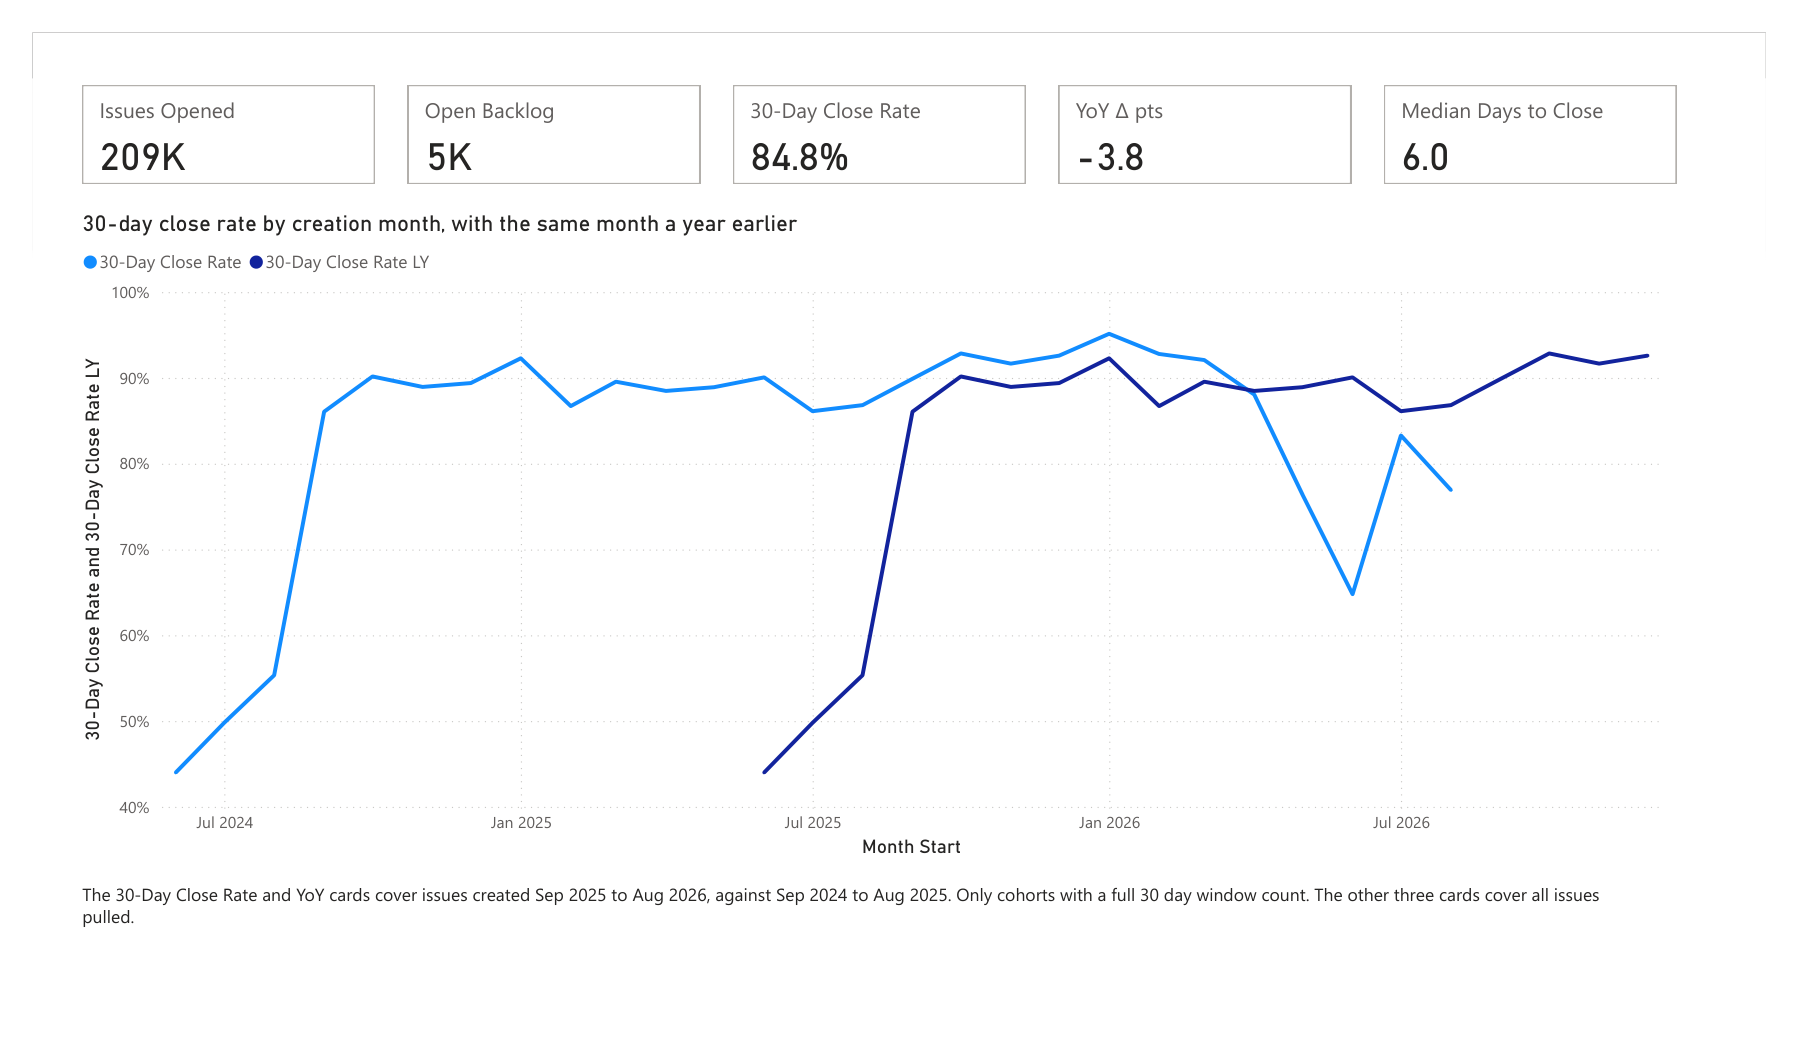

What the dashboard file says about the page in this screenshot:
{"tool":"powerbi","page":{"name":"Overview","canvas":[1280,720],"ordinal":0},"visuals":[{"type":"cardVisual","fields":{"Data":["Issues.Issues Opened"]},"box":[15,15,232,85],"z":0},{"type":"cardVisual","fields":{"Data":["Issues.Open Backlog"]},"box":[262,15,232,85],"z":1},{"type":"cardVisual","fields":{"Data":["Issues.30-Day Close Rate"]},"box":[509,15,232,85],"z":2},{"type":"cardVisual","fields":{"Data":["Issues.YoY Δ pts"]},"box":[756,15,232,85],"z":3},{"type":"cardVisual","fields":{"Data":["Issues.Median Days to Close"]},"box":[1003,15,232,85],"z":4},{"type":"lineChart","title":"30-day close rate by creation month, with the same month a year earlier\t","fields":{"Category":["Calendar.Month Start"],"Y":["Issues.30-Day Close Rate","Issues.30-Day Close Rate LY"]},"box":[15,115,1220,496],"z":5},{"type":"textbox","box":[15,620,1180,50],"z":6}]}

Visuals, with their boxes in screenshot pixels (x1, y1, x2, y2), scaled from the page's 1280x720 canvas onto the 1799x1040 screenshot:
cardVisual - Issues.Issues Opened: 21 22 347 144
cardVisual - Issues.Open Backlog: 368 22 694 144
cardVisual - Issues.30-Day Close Rate: 715 22 1041 144
cardVisual - Issues.YoY Δ pts: 1063 22 1389 144
cardVisual - Issues.Median Days to Close: 1410 22 1736 144
"30-day close rate by creation month, with the same month a year earlier	" lineChart: 21 166 1736 883
textbox: 21 896 1680 968
